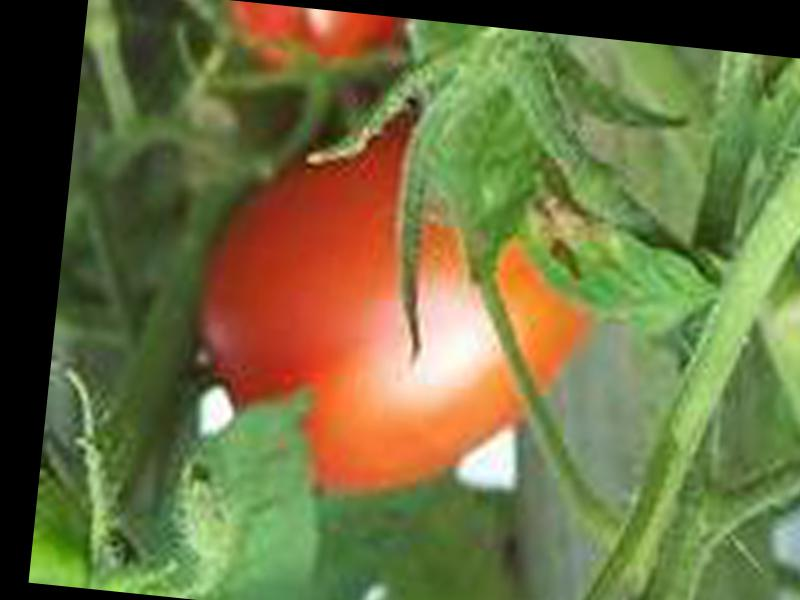Tomato: (185, 113, 600, 517)
